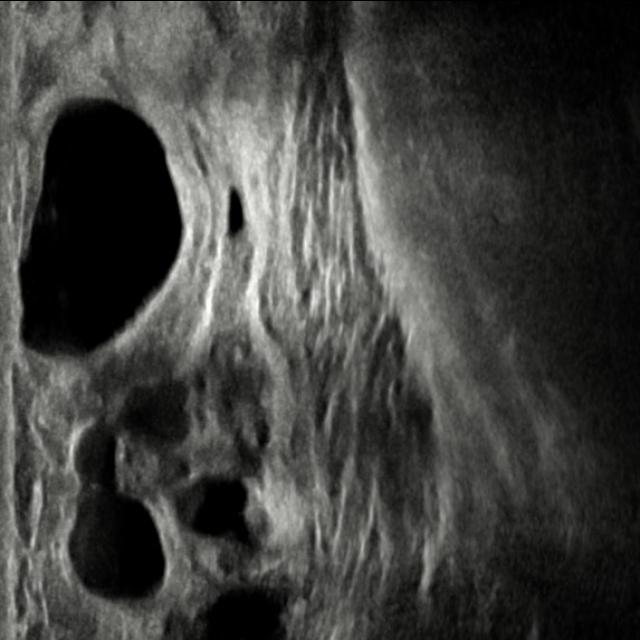Benign: (13, 92, 189, 360), (58, 485, 168, 601)
